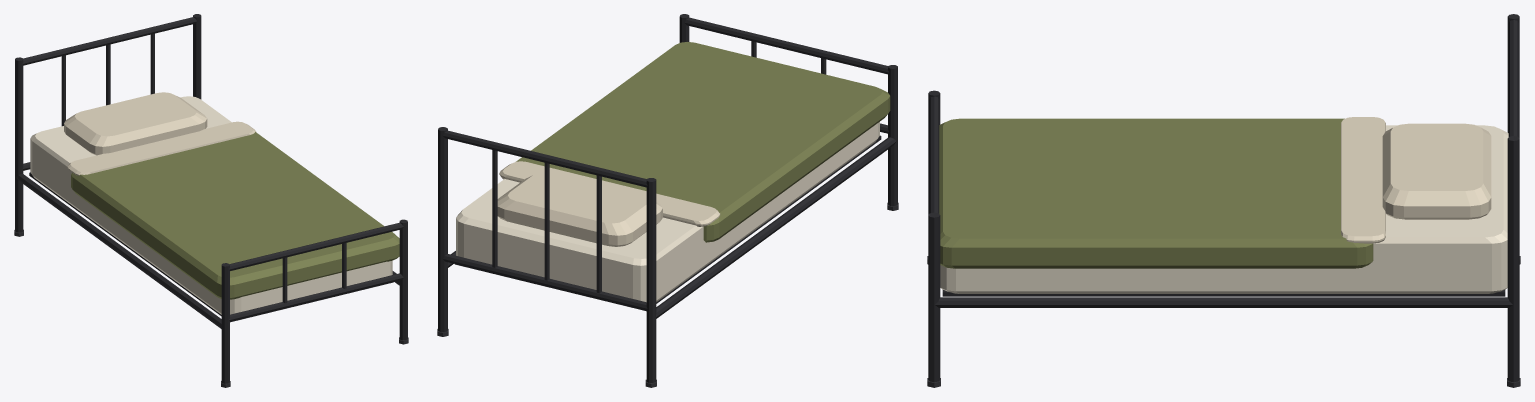
File: FN_Bed_Single.obj
The picture shows the model from 3 angles, left to right: view 1: azimuth 30°, elevation 25°; view 2: azimuth 150°, elevation 25°; view 3: azimuth 270°, elevation 25°; orthographic projection. The views are drawn at different scales.
Visible parts, largest first — view 1: FN_Bed_Single; view 2: FN_Bed_Single; view 3: FN_Bed_Single.
Part boxes in pixels (<box>): FN_Bed_Single: <box>14,14,408,387</box>; FN_Bed_Single: <box>437,14,898,387</box>; FN_Bed_Single: <box>927,14,1520,387</box>.
Bounding box in the file's own units: 1.01 × 0.9 × 1.97.
Materials: 1 (1 with a texture image).
